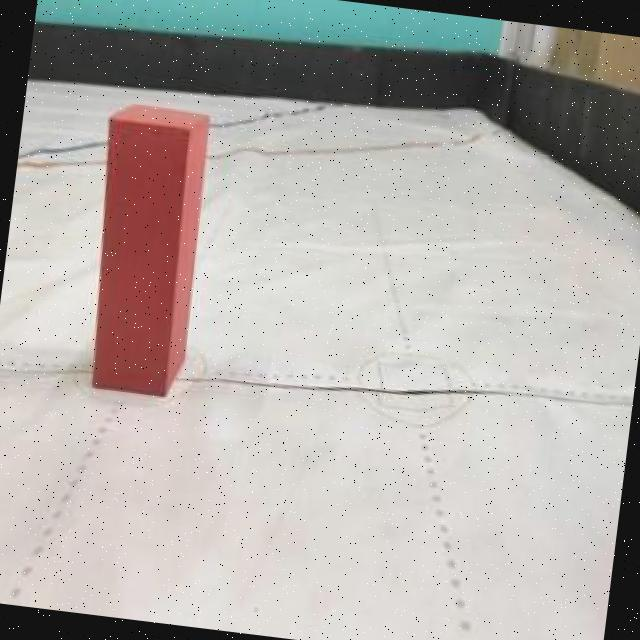redbox: (74, 100, 215, 407)
